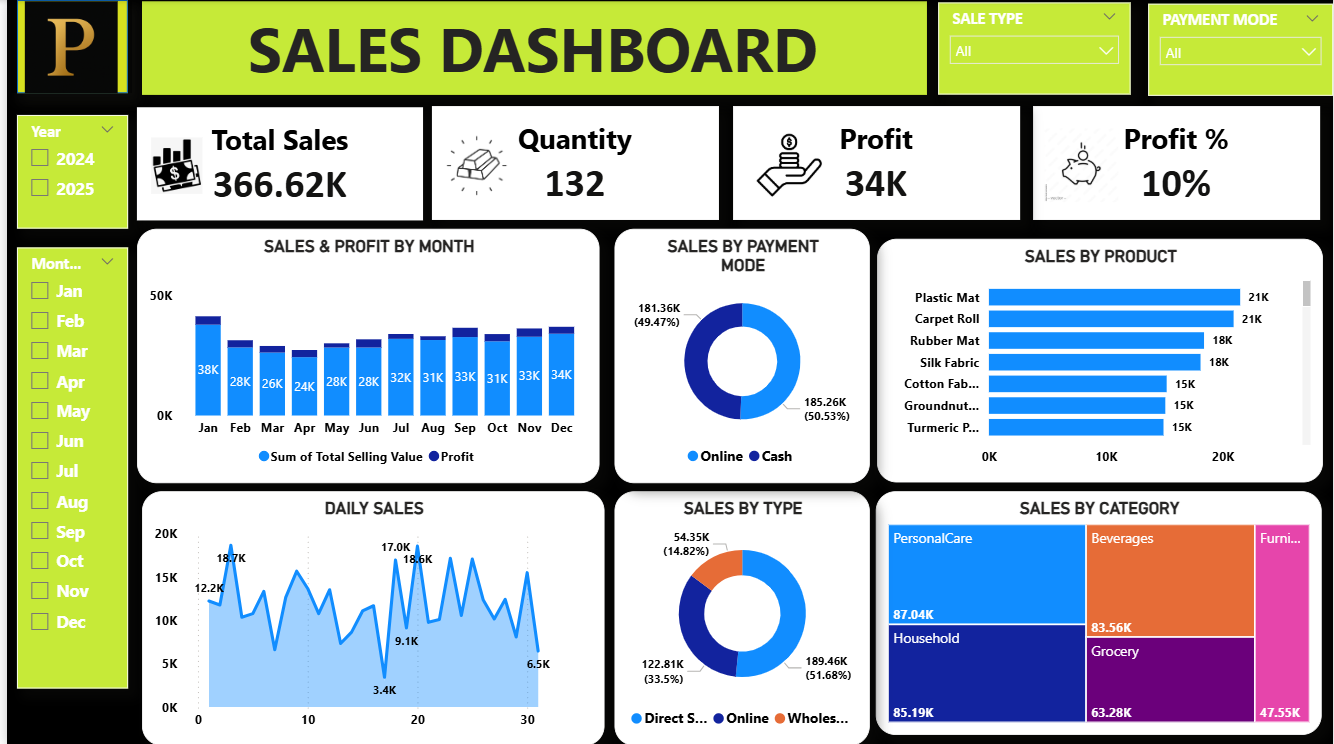

What the dashboard file says about the page in this screenshot:
{"tool":"powerbi","page":{"name":"Page 1","canvas":[1280,720],"ordinal":0},"visuals":[{"type":"shape","box":[9.6,0,107,90],"z":0},{"type":"image","box":[4.1,1.4,116.6,89.2],"z":1000},{"type":"textbox","box":[130.4,1.4,757.5,90.6],"z":2000},{"type":"slicer","fields":{"Values":["InputData.Year"]},"box":[9.6,111.1,107,109.8],"z":3000},{"type":"slicer","fields":{"Values":["InputData.Month Name"]},"box":[9.6,238.8,107,425.4],"z":4000},{"type":"slicer","fields":{"Values":["InputData.SALE TYPE"]},"box":[898.8,2.7,185.2,89.2],"z":5000},{"type":"slicer","fields":{"Values":["InputData.PAYMENT MODE"]},"box":[1101.9,4.1,178.4,89.2],"z":6000},{"type":"cardVisual","fields":{"Data":["Sum(InputData.Total Selling Value)"]},"box":[126,104,276,109],"z":7000},{"type":"cardVisual","fields":{"Data":["InputData.Profit %"]},"box":[991,102.2,276.7,109.7],"z":8000},{"type":"cardVisual","fields":{"Data":["Sum(InputData.QUANTITY)"]},"box":[410.1,102.2,276.7,109.7],"z":9000},{"type":"cardVisual","fields":{"Data":["InputData.Profit"]},"box":[700.6,102.2,276.7,109.7],"z":10000},{"type":"image","box":[129.9,132.8,67.2,54],"z":11000},{"type":"image","box":[1001.5,122.6,71.5,73],"z":12000},{"type":"image","box":[410.2,124.1,86.1,71.5],"z":13000},{"type":"image","box":[713.9,113.9,81.8,92],"z":14000},{"type":"columnChart","title":"SALES & PROFIT BY MONTH","fields":{"Y":["Sum(InputData.Total Selling Value)","InputData.Profit"],"Category":["InputData.Month Name"]},"box":[125.5,220.4,446.7,245.3],"z":15000},{"type":"areaChart","title":"DAILY SALES","fields":{"Category":["InputData.Day"],"Y":["Sum(InputData.Total Selling Value)"]},"box":[129.9,474.5,446.7,245.3],"z":16000},{"type":"clusteredBarChart","title":"SALES BY PRODUCT","fields":{"Y":["Sum(InputData.Total Selling Value)"],"Category":["InputData.MasterData.PRODUCT"]},"box":[839.4,230.7,430.7,235],"z":17000},{"type":"treemap","title":"SALES BY CATEGORY","fields":{"Values":["Sum(InputData.Total Selling Value)"],"Group":["InputData.MasterData.CATEGORY"]},"box":[838,474.5,430.7,235],"z":18000},{"type":"donutChart","title":"SALES BY TYPE","fields":{"Y":["Sum(InputData.Total Selling Value)"],"Category":["InputData.SALE TYPE"]},"box":[586.9,474.5,246.7,245.3],"z":18001},{"type":"donutChart","title":"SALES BY PAYMENT MODE","fields":{"Y":["Sum(InputData.Total Selling Value)"],"Category":["InputData.PAYMENT MODE"]},"box":[586.9,220.4,246.7,245.3],"z":18002}]}

Visuals, with their boxes in screenshot pixels (x1, y1, x2, y2), scaled from the page's 1280x720 canvas onto the 1334x744 screenshot:
shape: x1=10 y1=0 x2=122 y2=93
image: x1=4 y1=1 x2=126 y2=94
textbox: x1=136 y1=1 x2=925 y2=95
slicer - InputData.Year: x1=10 y1=115 x2=122 y2=228
slicer - InputData.Month Name: x1=10 y1=247 x2=122 y2=686
slicer - InputData.SALE TYPE: x1=937 y1=3 x2=1130 y2=95
slicer - InputData.PAYMENT MODE: x1=1148 y1=4 x2=1333 y2=96
cardVisual - Sum(InputData.Total Selling Value): x1=131 y1=107 x2=419 y2=220
cardVisual - InputData.Profit %: x1=1033 y1=106 x2=1321 y2=219
cardVisual - Sum(InputData.QUANTITY): x1=427 y1=106 x2=716 y2=219
cardVisual - InputData.Profit: x1=730 y1=106 x2=1019 y2=219
image: x1=135 y1=137 x2=205 y2=193
image: x1=1044 y1=127 x2=1118 y2=202
image: x1=428 y1=128 x2=517 y2=202
image: x1=744 y1=118 x2=829 y2=213
"SALES & PROFIT BY MONTH" columnChart: x1=131 y1=228 x2=596 y2=481
"DAILY SALES" areaChart: x1=135 y1=490 x2=601 y2=743
"SALES BY PRODUCT" clusteredBarChart: x1=875 y1=238 x2=1324 y2=481
"SALES BY CATEGORY" treemap: x1=873 y1=490 x2=1322 y2=733
"SALES BY TYPE" donutChart: x1=612 y1=490 x2=869 y2=743
"SALES BY PAYMENT MODE" donutChart: x1=612 y1=228 x2=869 y2=481
